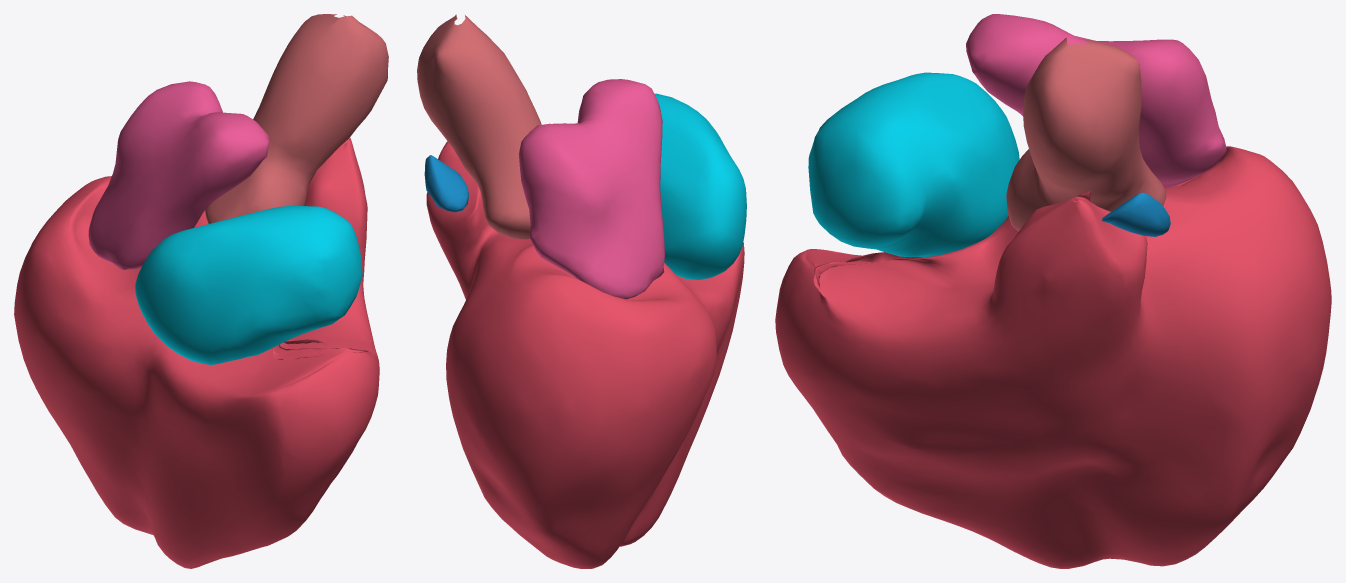
The model's file is frame_39.glb.
The picture shows the model from 3 angles, left to right: view 1: azimuth 30°, elevation 25°; view 2: azimuth 150°, elevation 25°; view 3: azimuth 270°, elevation 25°; orthographic projection. The views are drawn at different scales.
Visible parts, largest first — view 1: Renderer Node; view 2: Renderer Node; view 3: Renderer Node.
Part boxes in pixels (box(x1,y1,x2,y2)): Renderer Node: box(14, 14, 388, 568); Renderer Node: box(417, 14, 746, 568); Renderer Node: box(775, 14, 1331, 568).
Bounding box in the file's own units: 105 × 162 × 130.
